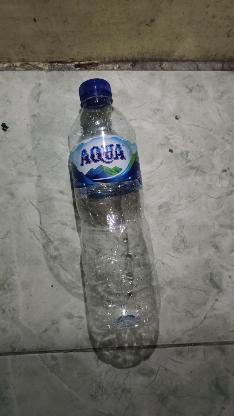Plastic Bottle: (67, 78, 161, 368)
